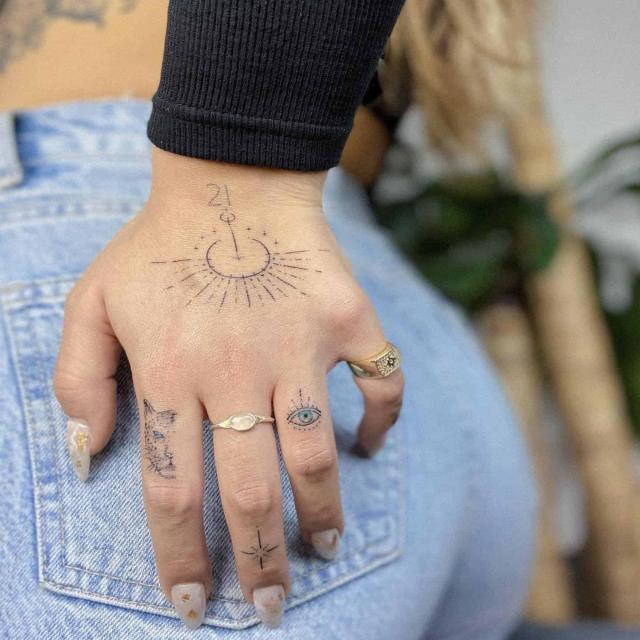hand: (50, 158, 407, 627)
